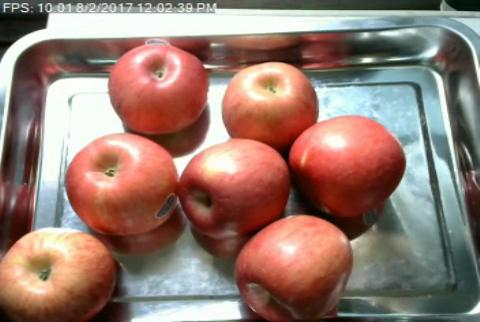apple: (236, 218, 352, 320), (66, 134, 179, 237), (291, 115, 406, 216), (182, 140, 290, 239), (0, 229, 114, 321), (107, 43, 208, 134), (224, 63, 316, 143)
